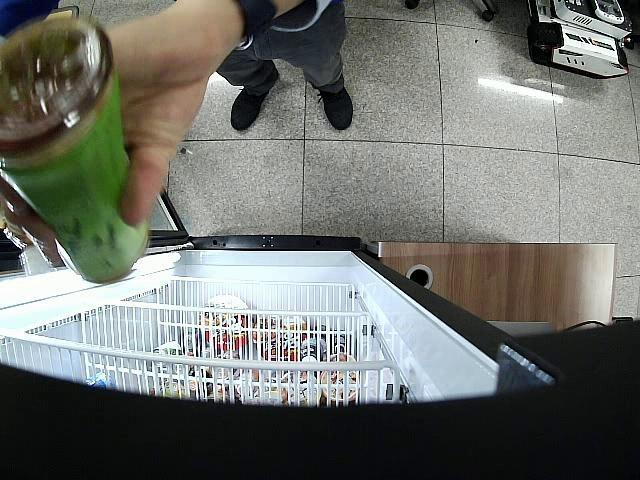19_17cha: (0, 15, 148, 283)
